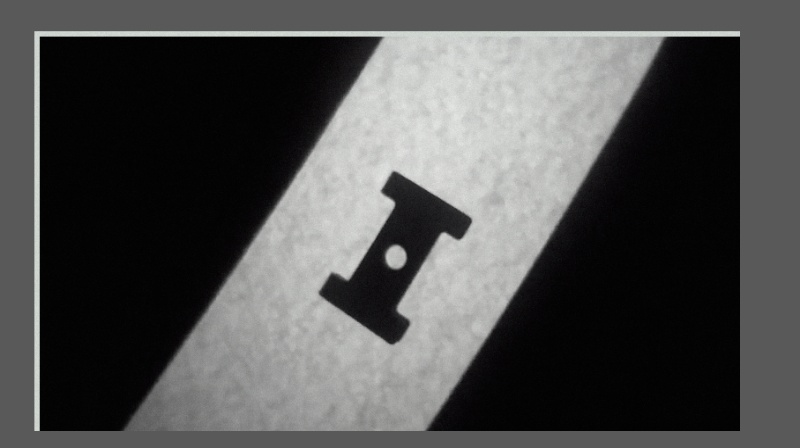O002: (316, 167, 477, 346)
